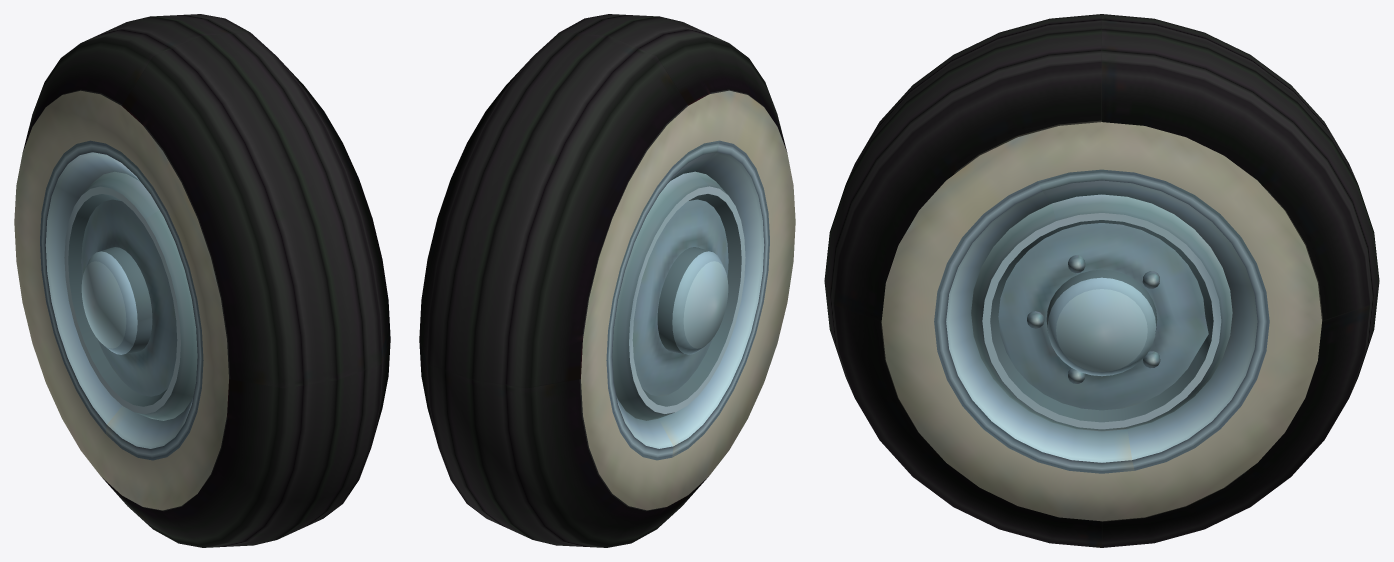
File: tire_r.fbx
3 views of the same model, side by side, from view 1: azimuth 30°, elevation 25°; view 2: azimuth 150°, elevation 25°; view 3: azimuth 270°, elevation 25° (orthographic). The views are drawn at different scales.
Parts seen in each view (by area): view 1: tire_fr; view 2: tire_fr; view 3: tire_fr.
Boxes of the visible parts, left/top/right/bottom form: tire_fr: left=14, top=14, right=390, bottom=547; tire_fr: left=419, top=14, right=795, bottom=547; tire_fr: left=824, top=14, right=1379, bottom=547.
Size of the model in its own units: 0.3271 by 0.7062 by 0.7062.
